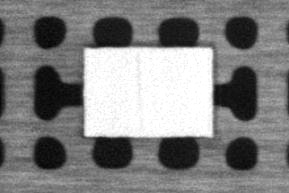DIE_CRACK: (132, 50, 144, 127)
